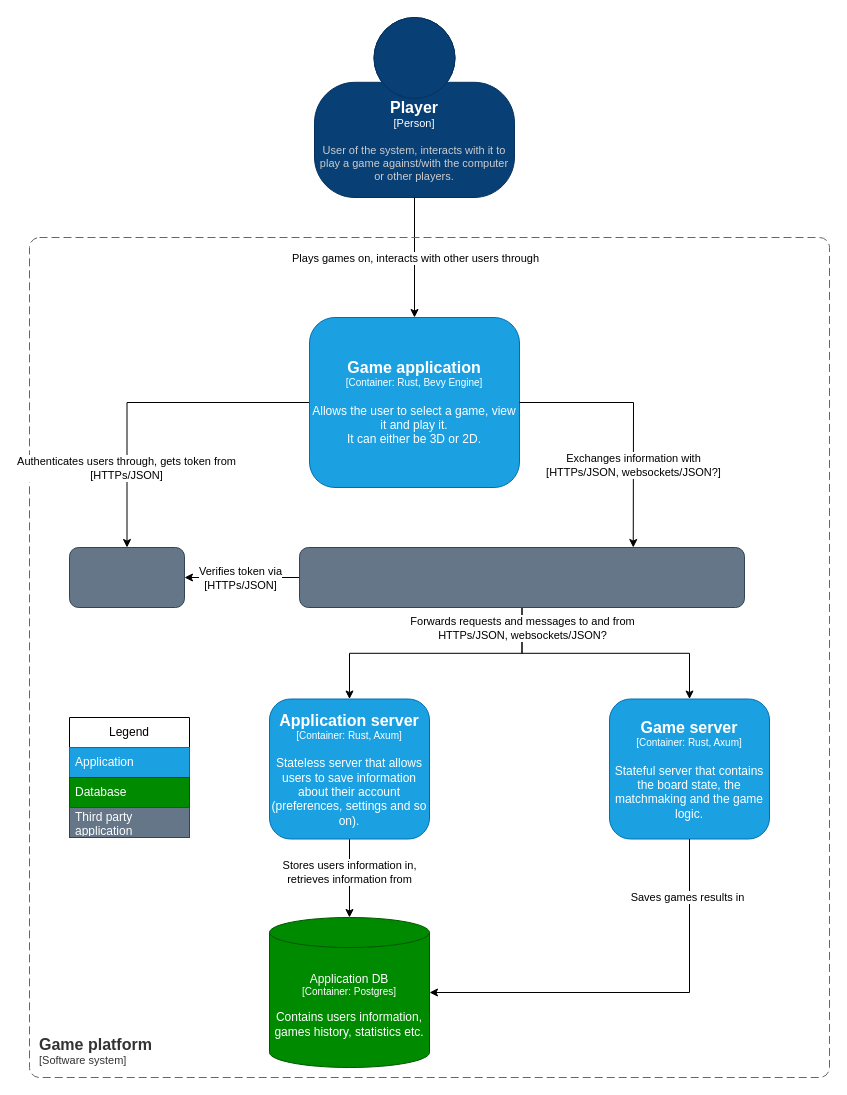
Image size: 847x1095. Some labels were removed from this diagram. The shapes that lost their labels are listed below. From the top down, each one's centre as x and y in pixels, then its label:
At (x=126, y=577): "KeyCloak".
At (x=521, y=577): "API Gateway".
